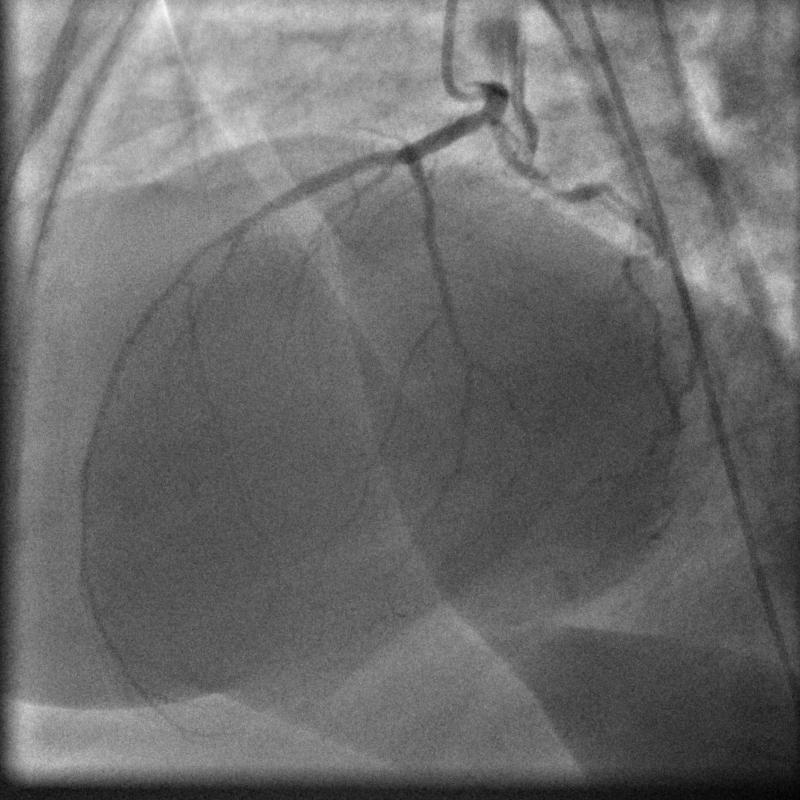Stenosis: (532, 157, 570, 215)
